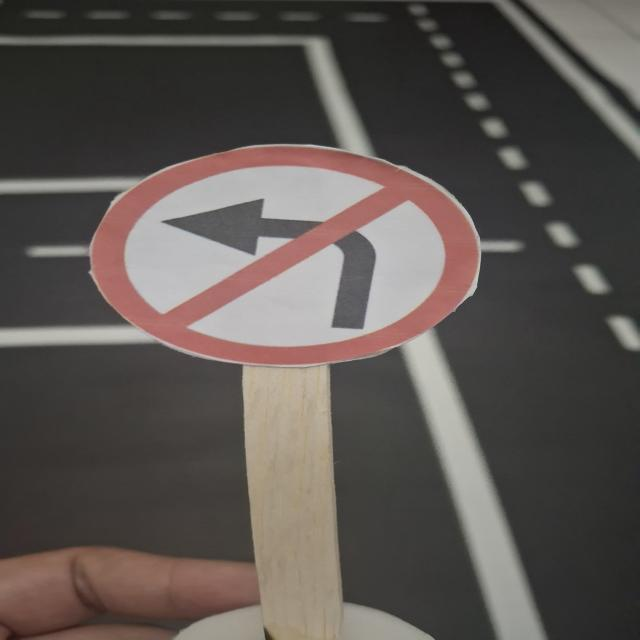Dilarang Belok Kiri: (89, 146, 487, 366)
